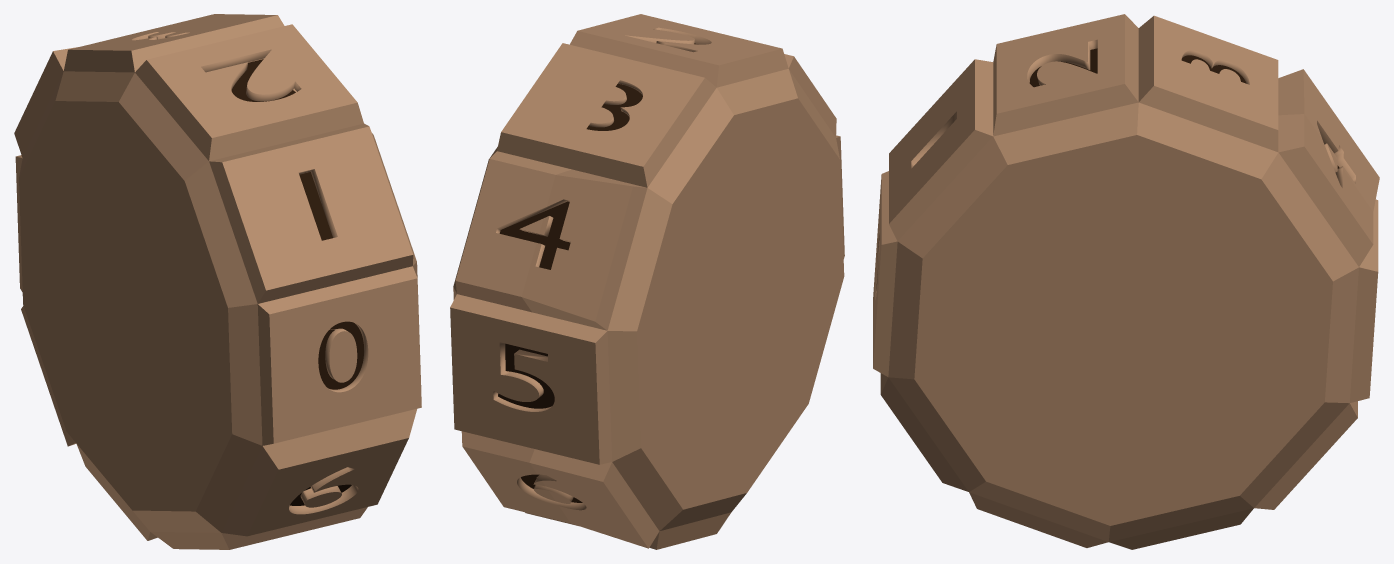
File: cajalockruedita.fbx
The picture shows the model from 3 angles, left to right: view 1: azimuth 30°, elevation 25°; view 2: azimuth 150°, elevation 25°; view 3: azimuth 270°, elevation 25°; orthographic projection. The views are drawn at different scales.
Visible parts, largest first — view 1: rueda1; view 2: rueda1; view 3: rueda1.
Part boxes in pixels (bbox=[...]): rueda1: bbox=[14, 14, 421, 549]; rueda1: bbox=[450, 14, 844, 549]; rueda1: bbox=[873, 14, 1379, 549].
Size of the model in its own units: 25.11 by 61.19 by 59.39.
